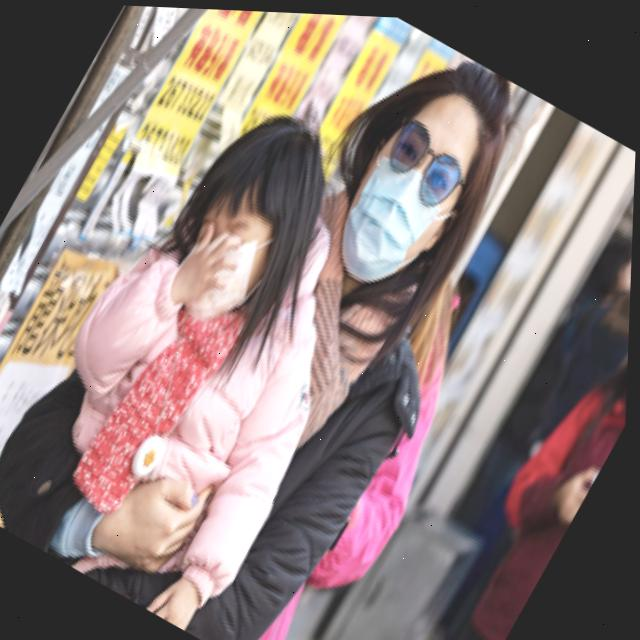Mask: (319, 143, 470, 304), (164, 199, 289, 337)
